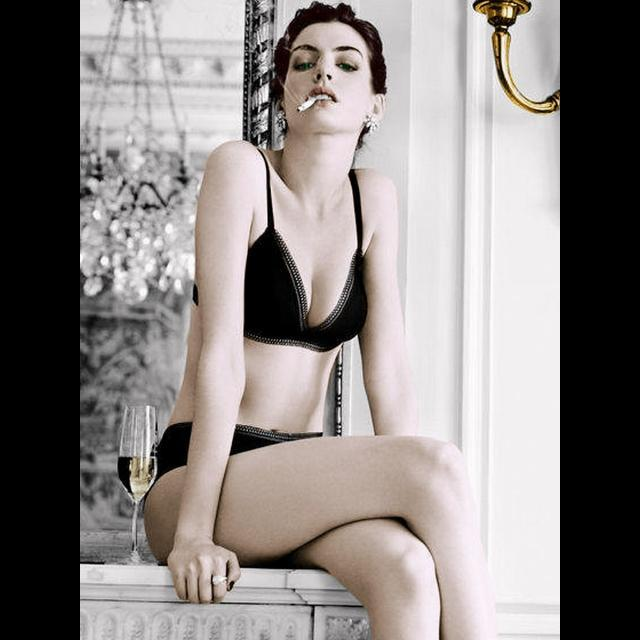rokok: (294, 94, 318, 114)
